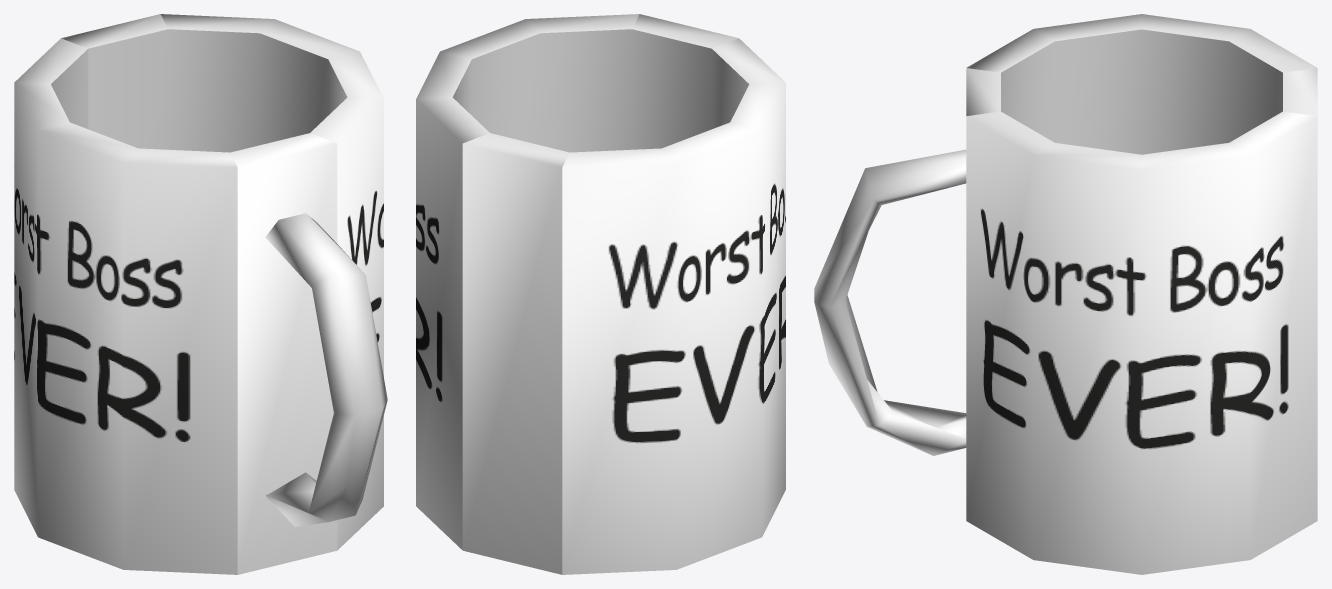
Rendered from Mug_lod3.fbx.
3 renders of one model, left to right at view 1: azimuth 30°, elevation 25°; view 2: azimuth 150°, elevation 25°; view 3: azimuth 270°, elevation 25°, orthographic.
Visible parts, largest first — view 1: mug, mug_handle; view 2: mug; view 3: mug, mug_handle.
Boxes of the visible parts, x1,y1,x2,y2 form: mug: [14, 14, 383, 574]; mug_handle: [265, 213, 387, 526]; mug: [416, 14, 785, 574]; mug: [966, 14, 1317, 574]; mug_handle: [814, 149, 966, 455].
Bounding box in the file's own units: 1.4 × 1.69 × 1.91.
